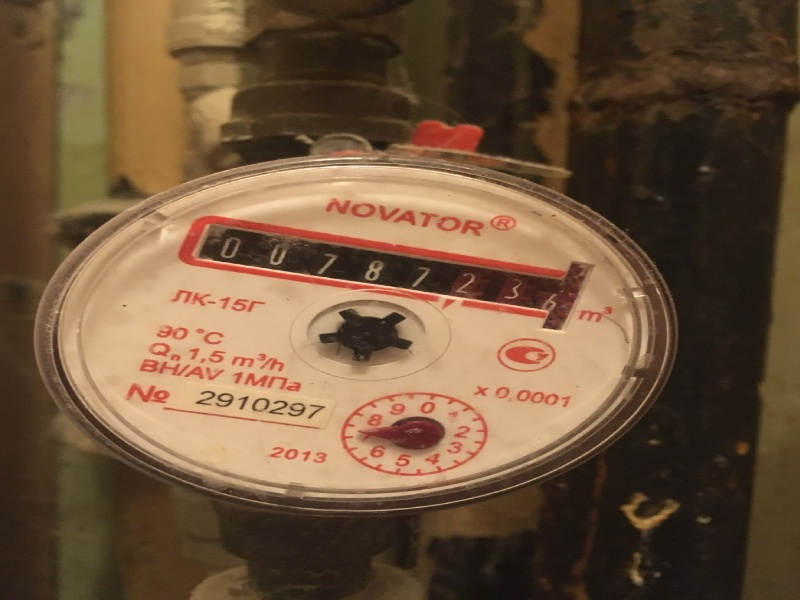meter: (205, 231, 571, 314)
